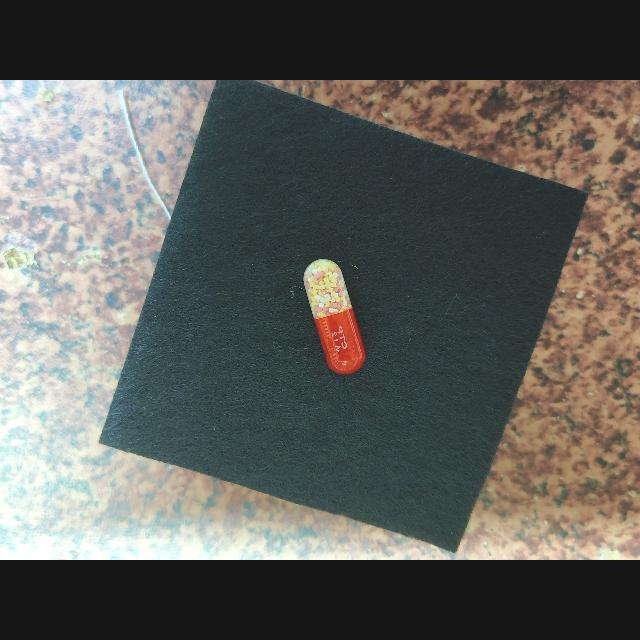Intact Capsule: (303, 259, 366, 375)
